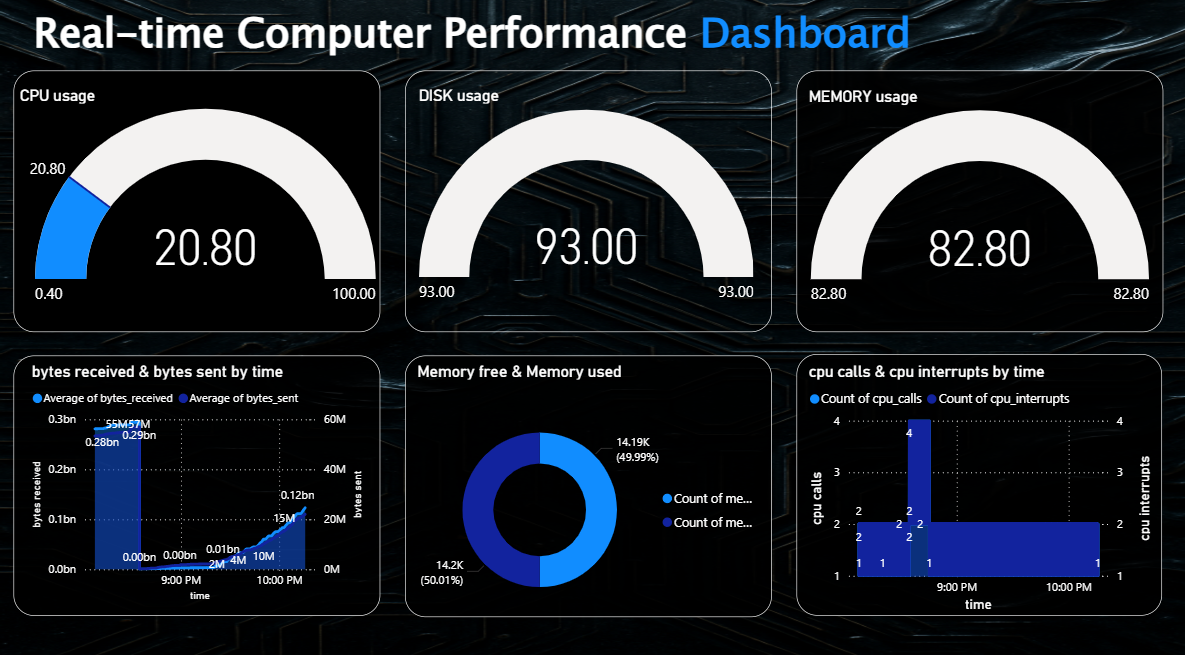

What the dashboard file says about the page in this screenshot:
{"tool":"powerbi","page":{"name":"Page 1","canvas":[1280,720],"ordinal":0},"visuals":[{"type":"textbox","box":[16.8,4.8,979.2,76.7],"z":0},{"type":"textbox","box":[14.5,82,390.8,278.6],"z":1000},{"type":"textbox","box":[849,383.5,389.5,278.6],"z":2000},{"type":"textbox","box":[431.8,384.7,390.8,278.6],"z":3000},{"type":"textbox","box":[847.8,82,390.8,278.6],"z":4000},{"type":"textbox","box":[14.5,384.7,390.8,277.4],"z":5000},{"type":"textbox","box":[431.8,82,390.8,278.6],"z":6000},{"type":"gauge","title":"CPU usage","fields":{"MinValue":["Min(performance (2).cpu_usage)"],"MaxValue":["Max(performance (2).cpu_usage)"],"TargetValue":["performance (2).cpu_usage_latest"],"Y":["performance (2).cpu_usage_latest"]},"box":[15.6,97.1,394.3,242.1],"z":7000},{"type":"gauge","title":"DISK usage","fields":{"Y":["performance (2).disk_usage_latest"],"MinValue":["performance (2).disk_usage_latest"],"MaxValue":["performance (2).disk_usage_latest"]},"box":[440.2,97.7,366.6,241.2],"z":8000},{"type":"gauge","title":"MEMORY usage","fields":{"Y":["performance (2).memory_usage_latest"],"MinValue":["performance (2).memory_usage_latest"],"MaxValue":["performance (2).memory_usage_latest"]},"box":[855.7,98.3,373.9,240.9],"z":9000},{"type":"areaChart","title":"bytes received & bytes sent by time","fields":{"Category":["performance (2).time"],"Y2":["Avg(performance (2).bytes_sent)"],"Y":["Avg(performance (2).bytes_received)"]},"box":[28.8,391.9,361.9,260.1],"z":10000},{"type":"areaChart","title":"cpu calls & cpu interrupts by time   ","fields":{"Category":["performance (2).time"],"Y":["CountNonNull(performance (2).cpu_calls)"],"Y2":["CountNonNull(performance (2).cpu_interrupts)"]},"box":[856.9,391.9,373.9,270.9],"z":11000},{"type":"donutChart","title":"Memory free &  Memory used","fields":{"Y":["Count(performance (2).memory_free)","Count(performance (2).memory_used)"]},"box":[439.9,391.9,382.3,296],"z":12000}]}

Visuals, with their boxes in screenshot pixels (x1, y1, x2, y2), scaled from the page's 1280x720 canvas onto the 1185x655 screenshot:
textbox: 16 4 922 74
textbox: 13 75 375 328
textbox: 786 349 1147 602
textbox: 400 350 762 603
textbox: 785 75 1147 328
textbox: 13 350 375 602
textbox: 400 75 762 328
"CPU usage" gauge: 14 88 379 309
"DISK usage" gauge: 408 89 747 308
"MEMORY usage" gauge: 792 89 1138 309
"bytes received & bytes sent by time" areaChart: 27 357 362 593
"cpu calls & cpu interrupts by time   " areaChart: 793 357 1139 603
"Memory free &  Memory used" donutChart: 407 357 761 626
